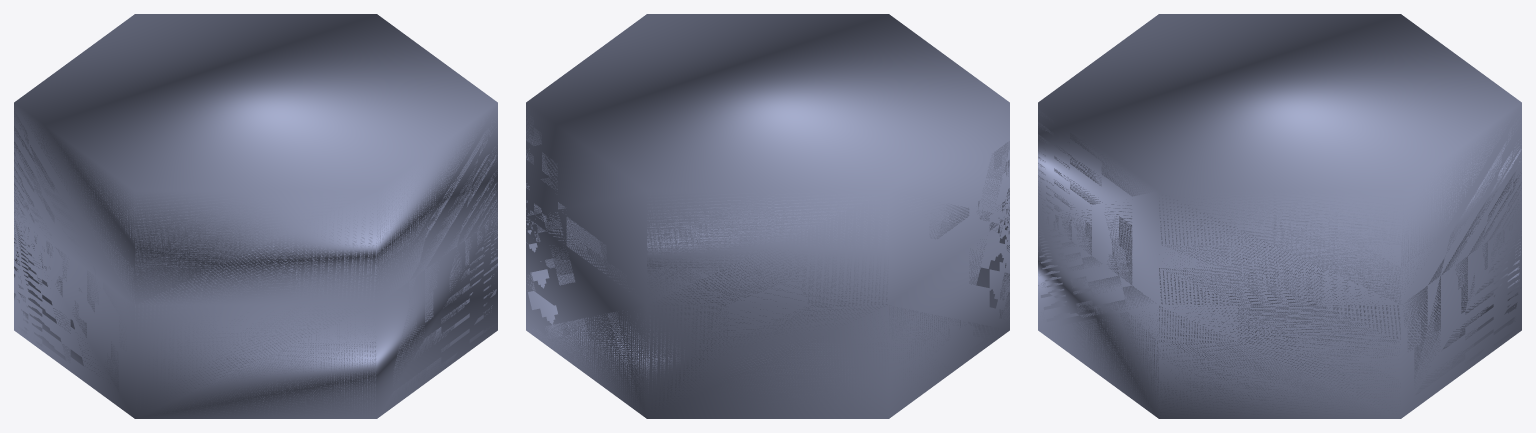
The model's file is mountain.glb.
The picture shows the model from 3 angles, left to right: view 1: azimuth 30°, elevation 25°; view 2: azimuth 150°, elevation 25°; view 3: azimuth 270°, elevation 25°; orthographic projection.
Parts seen in each view (by area): view 1: grass; view 2: grass; view 3: grass.
Boxes of the visible parts, x1,y1,x2,y2 form: grass: (14, 14, 497, 418); grass: (526, 14, 1009, 418); grass: (1038, 14, 1521, 418).
Size of the model in its own units: 1 by 0.6 by 1.15.
1 material, 1 textured.
